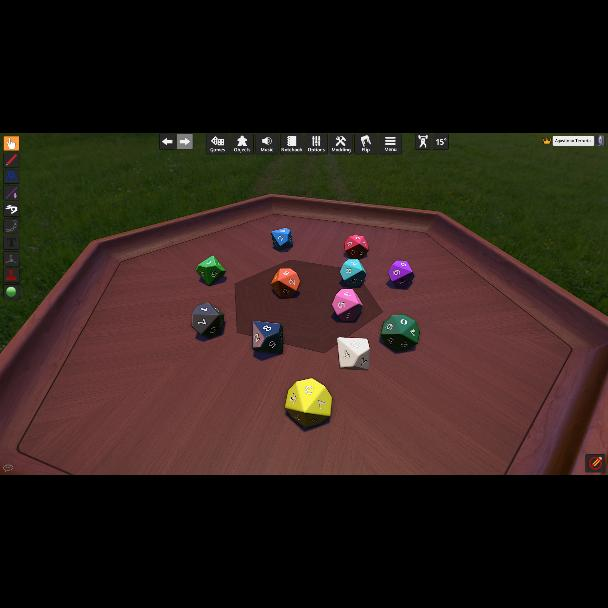d10: (286, 378, 330, 426), (380, 316, 418, 352), (191, 302, 225, 338), (336, 336, 370, 370), (251, 320, 283, 354), (332, 289, 362, 322), (196, 256, 226, 286), (272, 268, 300, 298), (388, 260, 414, 288), (339, 259, 365, 287), (344, 235, 368, 259), (271, 228, 293, 250)
